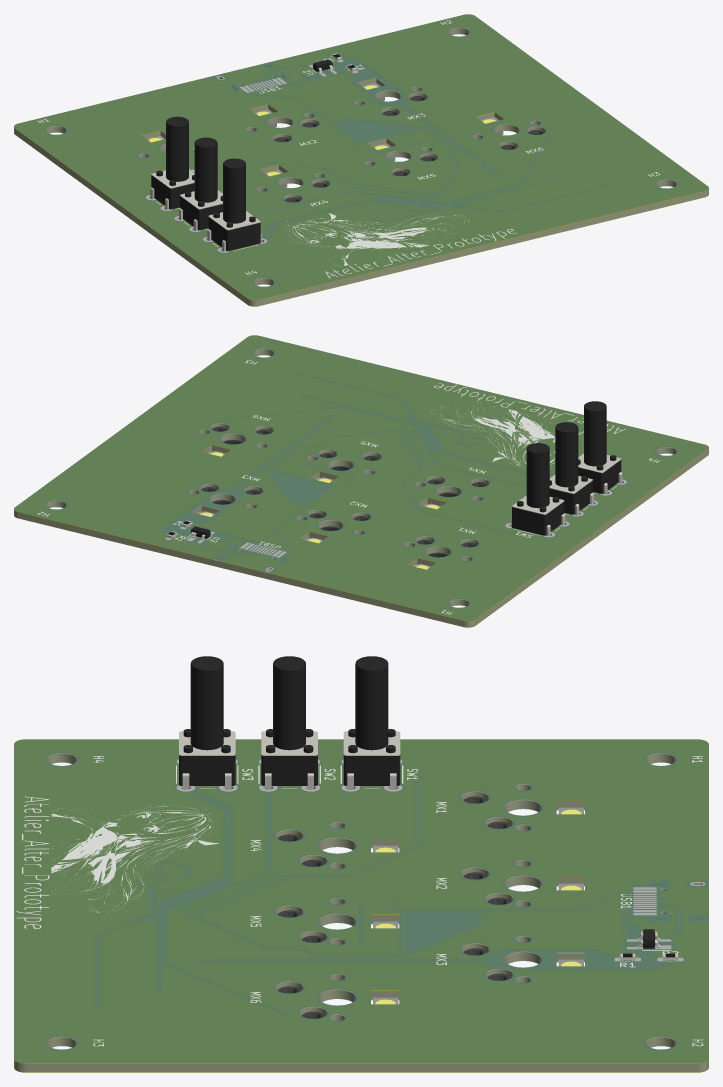
Rendered from atelier6k.glb.
3 renders of one model, top to bottom at view 1: azimuth 30°, elevation 25°; view 2: azimuth 150°, elevation 25°; view 3: azimuth 270°, elevation 25°, orthographic. The views are drawn at different scales.
Parts seen in each view (by area): view 1: =>[0:1:1:31], =>[0:1:1:26], =>[0:1:1:33], =>[0:1:1:7] (×3), =>[0:1:1:29], =>[0:1:1:27]; view 2: =>[0:1:1:31], =>[0:1:1:26], =>[0:1:1:33], =>[0:1:1:7] (×3), =>[0:1:1:29], =>[0:1:1:27]; view 3: =>[0:1:1:31], =>[0:1:1:26], =>[0:1:1:33], =>[0:1:1:7] (×3), =>[0:1:1:29], =>[0:1:1:27].
Part boxes in pixels (x1,y1,x2,y2): =>[0:1:1:31]: (14,14,708,300); =>[0:1:1:26]: (14,15,708,306); =>[0:1:1:33]: (14,27,708,306); =>[0:1:1:7] (×3): (150,116,261,251); =>[0:1:1:29]: (37,20,659,278); =>[0:1:1:27]: (146,55,358,252); =>[0:1:1:31]: (14,335,708,621); =>[0:1:1:26]: (14,336,708,627); =>[0:1:1:33]: (14,348,708,627); =>[0:1:1:7] (×3): (511,401,622,535); =>[0:1:1:29]: (37,360,659,614); =>[0:1:1:27]: (165,479,626,571); =>[0:1:1:31]: (14,739,708,1063); =>[0:1:1:26]: (14,740,708,1072); =>[0:1:1:33]: (14,753,708,1072); =>[0:1:1:7] (×3): (179,656,400,789); =>[0:1:1:29]: (16,756,703,1046); =>[0:1:1:27]: (176,759,705,961).
Size of the model in its own units: 0.0813 by 0.0165 by 0.0737.
